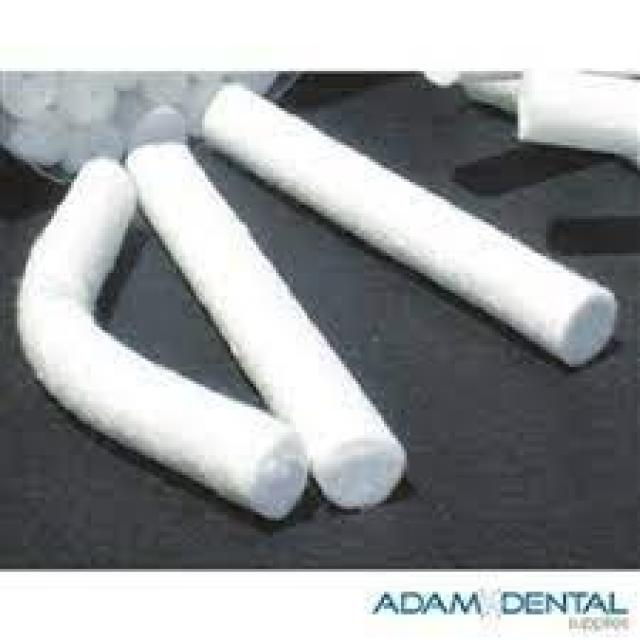B3: (185, 77, 640, 375), (102, 130, 432, 500)
